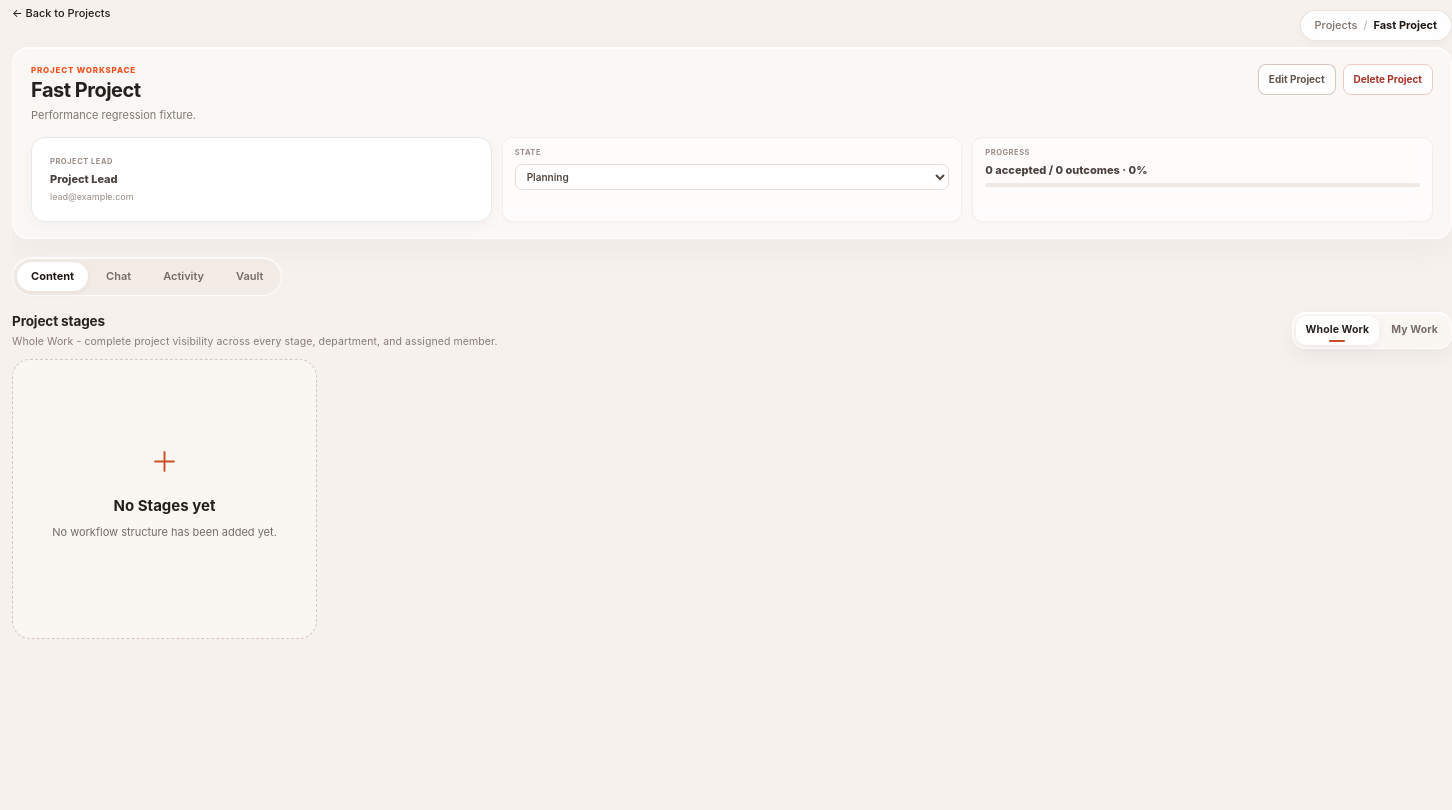
Scenario: ProjectOverviewPage status mutation › shows the Project Members sidebar only on Project Chat
Expected: the heading "Project Members" is not shown
Click the tab "Chat" at (119, 277), box top-left (92, 262), bottom-right (145, 291)
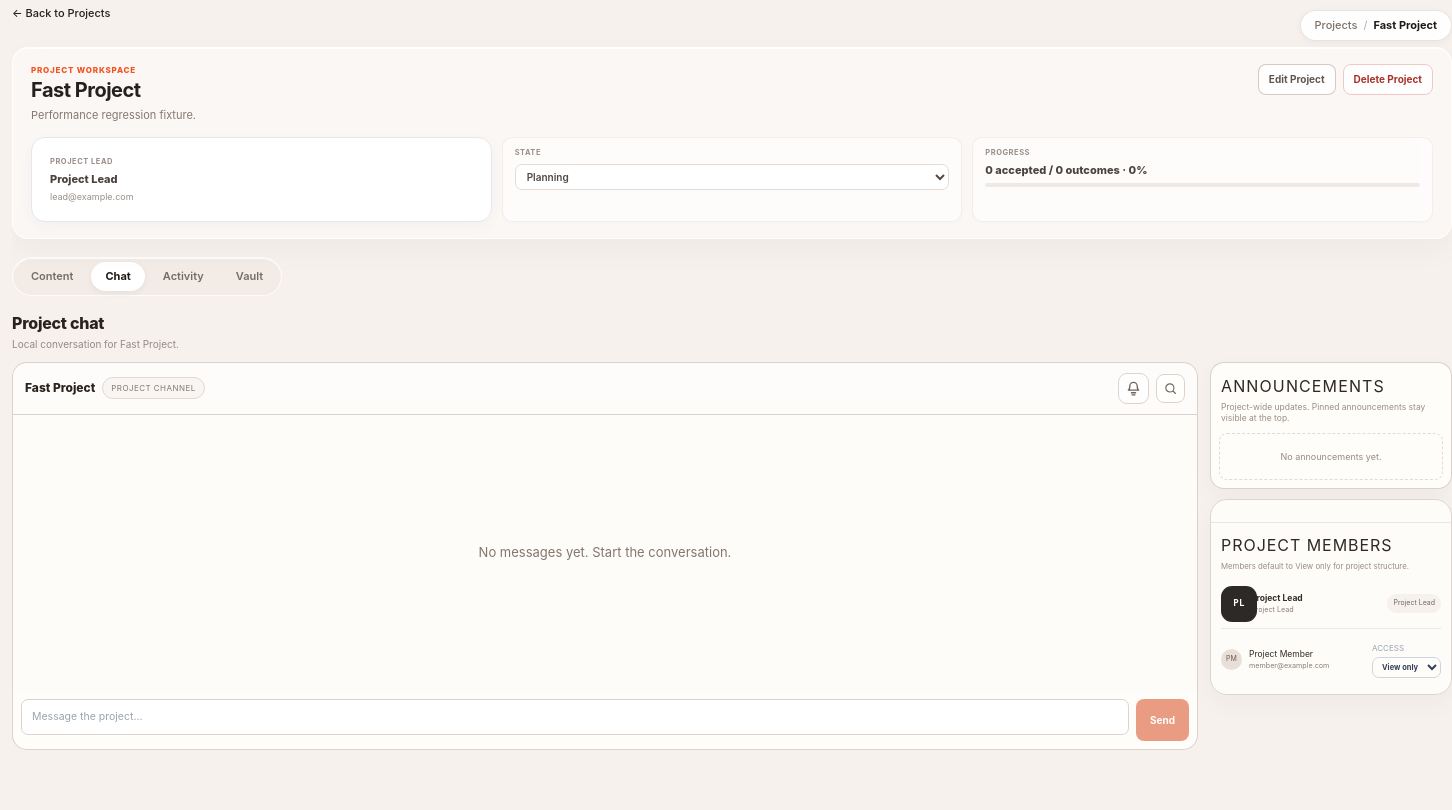
Now the heading "Project Members" is shown, box top-left (1221, 535), bottom-right (1393, 555)
Now the dropdown named "Project access for Project Member" shows "View only", box top-left (1372, 657), bottom-right (1441, 678)
Now the 5th text "Project Lead" is shown, box top-left (1388, 594), bottom-right (1441, 613)
Click the link "Fast Project" at (1405, 25), box top-left (1373, 17), bottom-right (1437, 34)
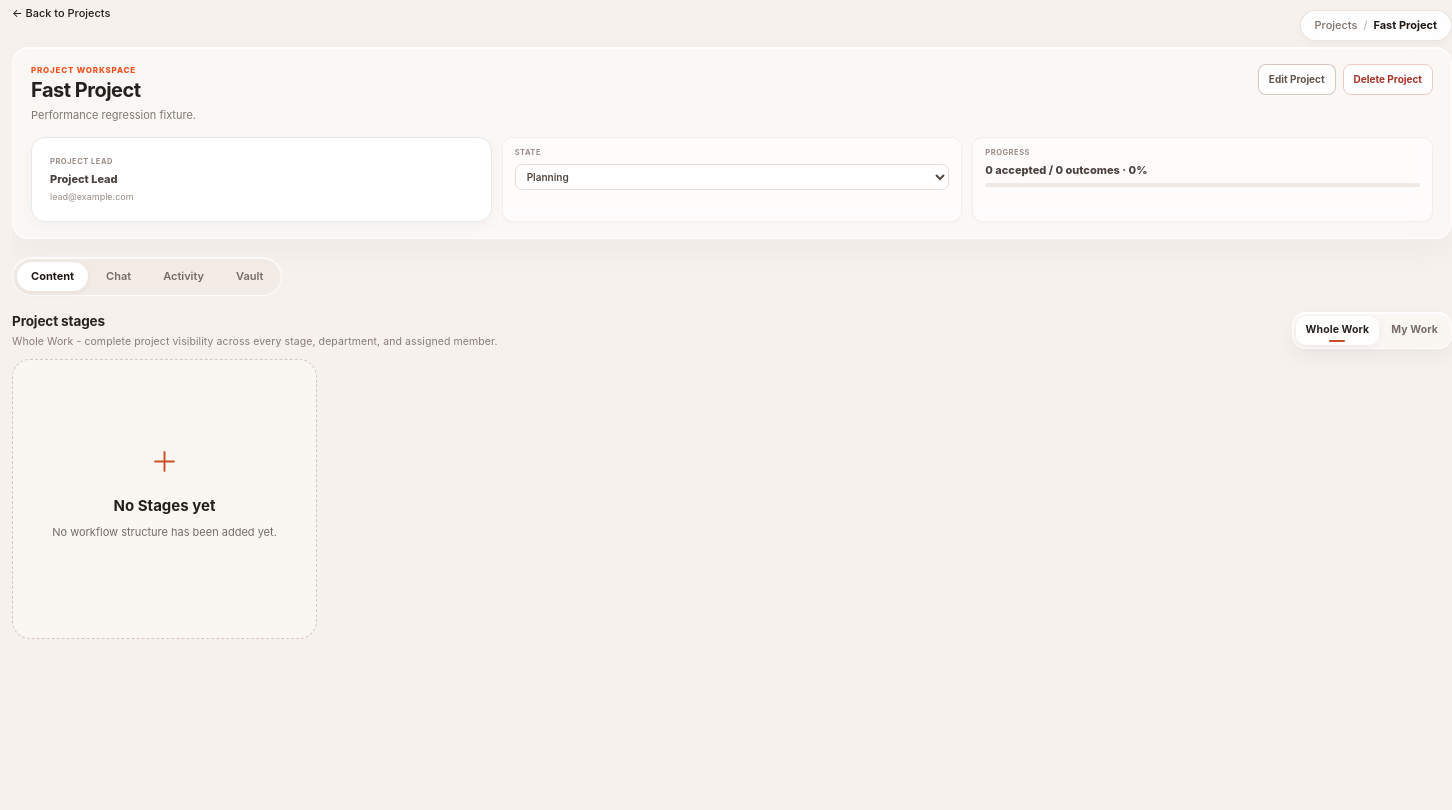
Now the heading "Project Members" is gone
